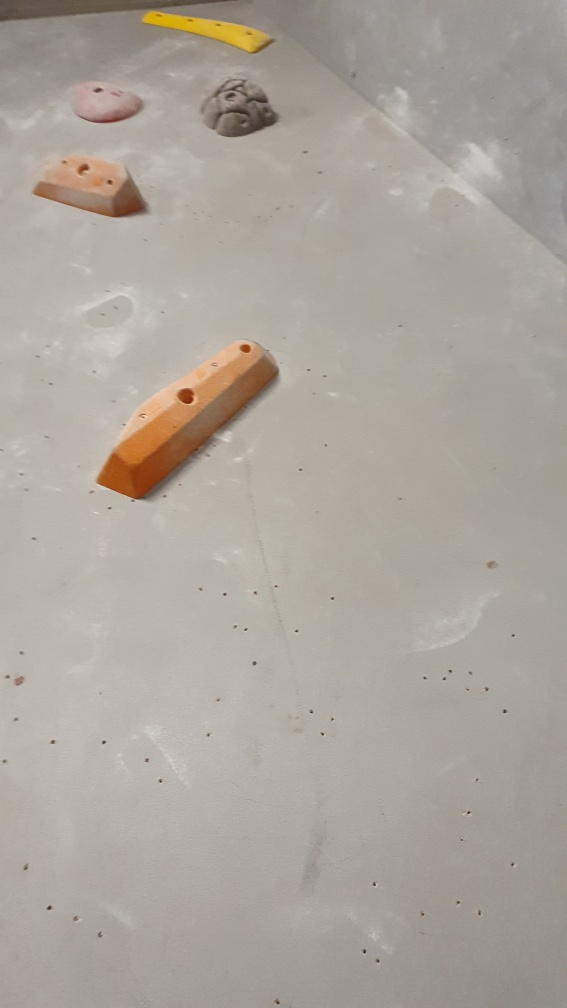Crimp: (143, 12, 276, 55)
Jug: (200, 77, 281, 143)
Pinch: (92, 336, 281, 501), (31, 151, 145, 219)
